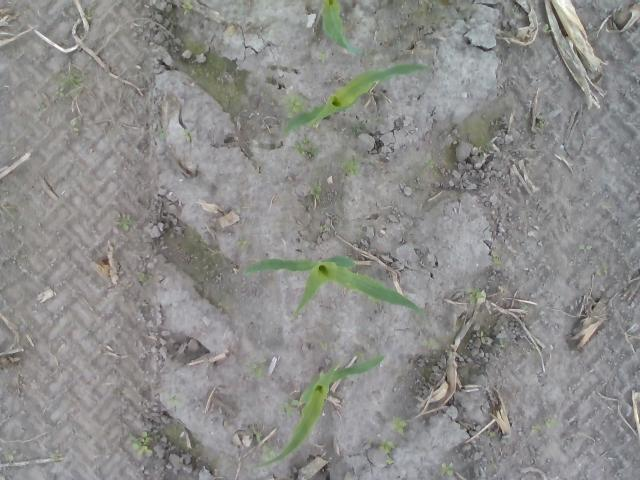Maize: (250, 354, 384, 472), (242, 255, 428, 320), (283, 62, 430, 134), (320, 0, 360, 56)
Weeds: (128, 431, 154, 458), (56, 72, 82, 96), (292, 138, 318, 161), (246, 358, 270, 378), (112, 208, 132, 232), (285, 96, 305, 118), (379, 438, 395, 465), (338, 158, 360, 177), (278, 399, 298, 417), (531, 416, 553, 432), (463, 286, 482, 304), (390, 415, 408, 433), (434, 462, 454, 478), (165, 393, 185, 408), (260, 446, 276, 462), (2, 448, 17, 463), (66, 120, 80, 136), (309, 182, 321, 200), (182, 0, 192, 17), (351, 120, 368, 130), (49, 450, 63, 462), (236, 239, 249, 250), (85, 9, 96, 22), (576, 243, 593, 251), (496, 339, 505, 352), (368, 296, 382, 304), (422, 338, 432, 349), (352, 352, 365, 360), (135, 271, 144, 282), (493, 256, 501, 268), (254, 430, 262, 442), (536, 119, 545, 129), (424, 160, 434, 168), (366, 438, 374, 448), (480, 329, 485, 345), (184, 132, 192, 141), (320, 51, 326, 61), (158, 128, 164, 137), (313, 121, 320, 128), (488, 432, 496, 437)
